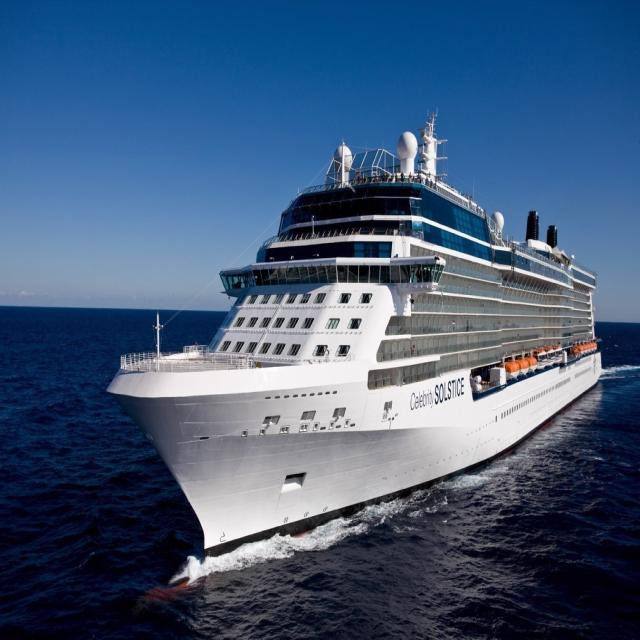passenger ship: (114, 124, 602, 550)
